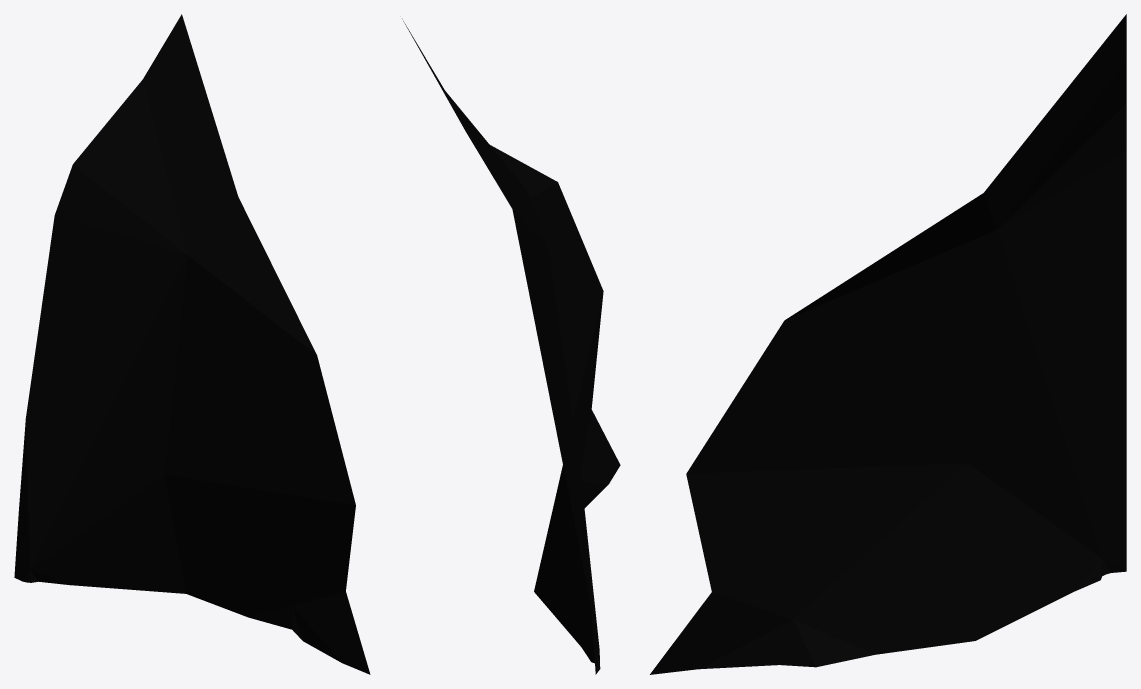
3 views of the same model, side by side, from view 1: azimuth 30°, elevation 25°; view 2: azimuth 150°, elevation 25°; view 3: azimuth 270°, elevation 25° (orthographic). The views are drawn at different scales.
Size of the model in its own units: 0.8959 by 2.67 by 1.75.
1 material, 1 textured.
